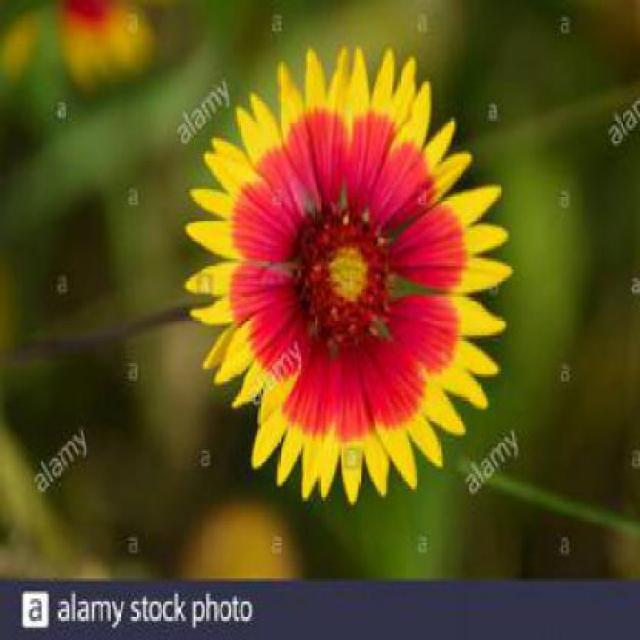Flower: (182, 45, 515, 507), (302, 218, 391, 342)
